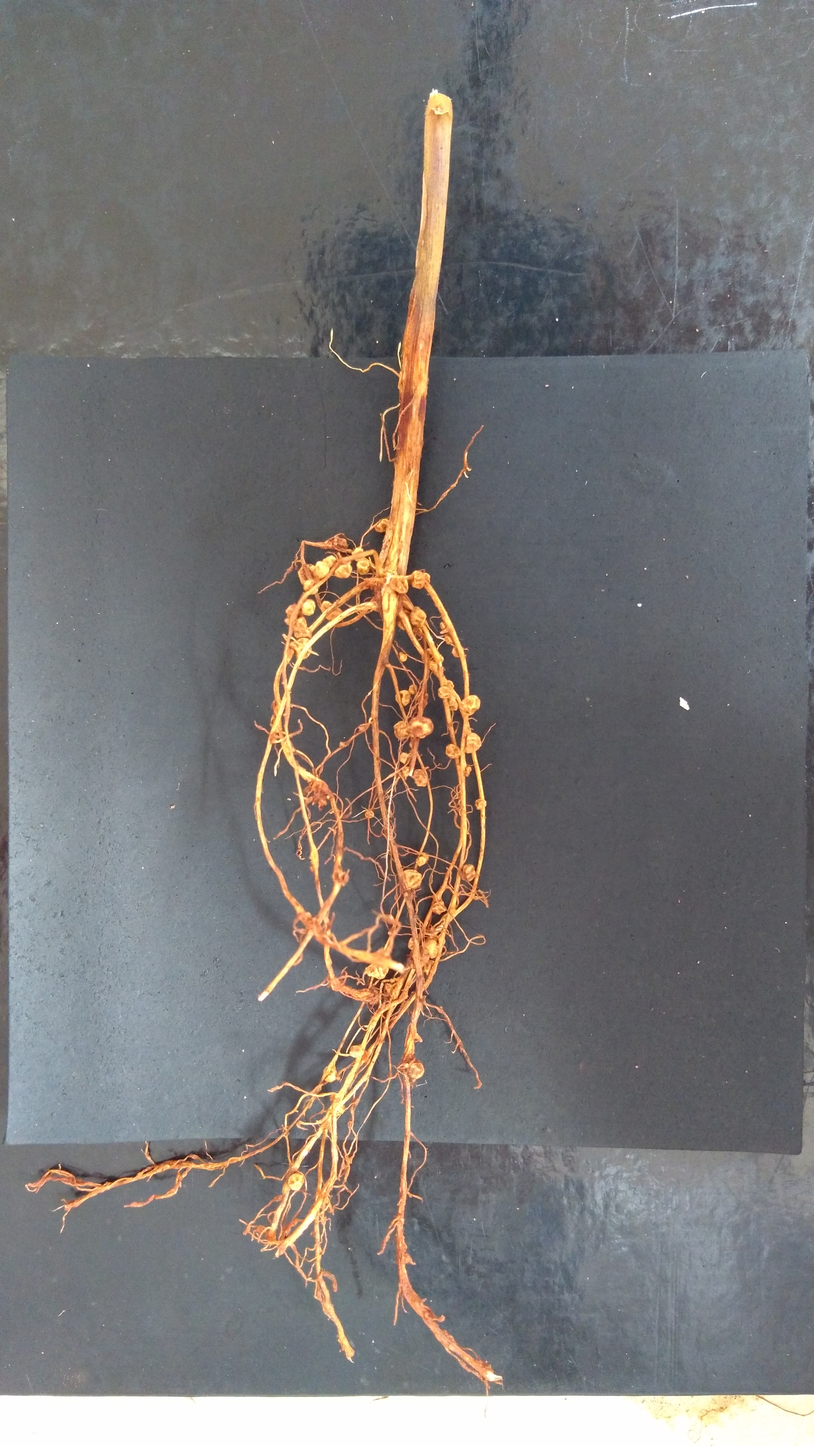nodule: (297, 563, 320, 589), (408, 716, 434, 739), (406, 944, 429, 968), (321, 600, 342, 622), (365, 962, 389, 980), (461, 695, 481, 716), (401, 868, 421, 889), (422, 935, 439, 959), (409, 606, 427, 628), (295, 637, 311, 660), (407, 1060, 425, 1080), (465, 732, 482, 753), (396, 608, 411, 631), (389, 575, 408, 593), (313, 560, 330, 579), (393, 720, 409, 740), (288, 1173, 305, 1191), (397, 592, 414, 610), (334, 563, 353, 579), (356, 988, 374, 1004), (383, 983, 398, 1002), (412, 769, 427, 787), (461, 863, 476, 881), (323, 1064, 337, 1083), (285, 641, 297, 663), (395, 690, 411, 706), (445, 743, 461, 759), (285, 604, 302, 619), (331, 1100, 346, 1117), (301, 598, 315, 616), (411, 570, 425, 588), (373, 518, 389, 533), (302, 579, 318, 594), (430, 900, 446, 915), (413, 624, 431, 637), (356, 558, 369, 575), (333, 535, 348, 549), (293, 617, 307, 632), (293, 627, 312, 638), (370, 596, 383, 612), (415, 852, 429, 866), (352, 547, 365, 562), (322, 555, 337, 568), (382, 567, 398, 579), (424, 959, 436, 975), (438, 685, 451, 699), (349, 1044, 363, 1057), (311, 780, 323, 795), (414, 691, 429, 702), (448, 695, 458, 711), (369, 989, 379, 1005), (317, 793, 328, 807), (451, 645, 463, 657), (475, 798, 487, 810), (338, 871, 349, 884), (282, 1224, 292, 1238), (445, 632, 455, 645), (426, 647, 439, 657), (403, 890, 416, 900), (432, 653, 444, 663), (399, 752, 409, 764), (400, 766, 410, 778), (428, 660, 438, 671), (330, 1092, 341, 1102), (284, 617, 297, 625), (407, 937, 415, 950), (365, 809, 375, 819), (399, 651, 408, 662), (408, 684, 417, 695), (361, 1050, 369, 1062), (441, 913, 448, 926), (328, 538, 337, 548), (256, 1224, 266, 1233), (423, 572, 431, 583), (464, 766, 472, 777), (404, 1253, 412, 1264), (446, 679, 454, 688), (440, 621, 447, 631), (436, 1315, 445, 1322), (274, 1195, 283, 1202), (449, 908, 456, 916), (338, 741, 346, 747), (358, 725, 365, 731), (438, 1006, 443, 1013), (401, 1062, 408, 1067), (389, 978, 395, 983)
